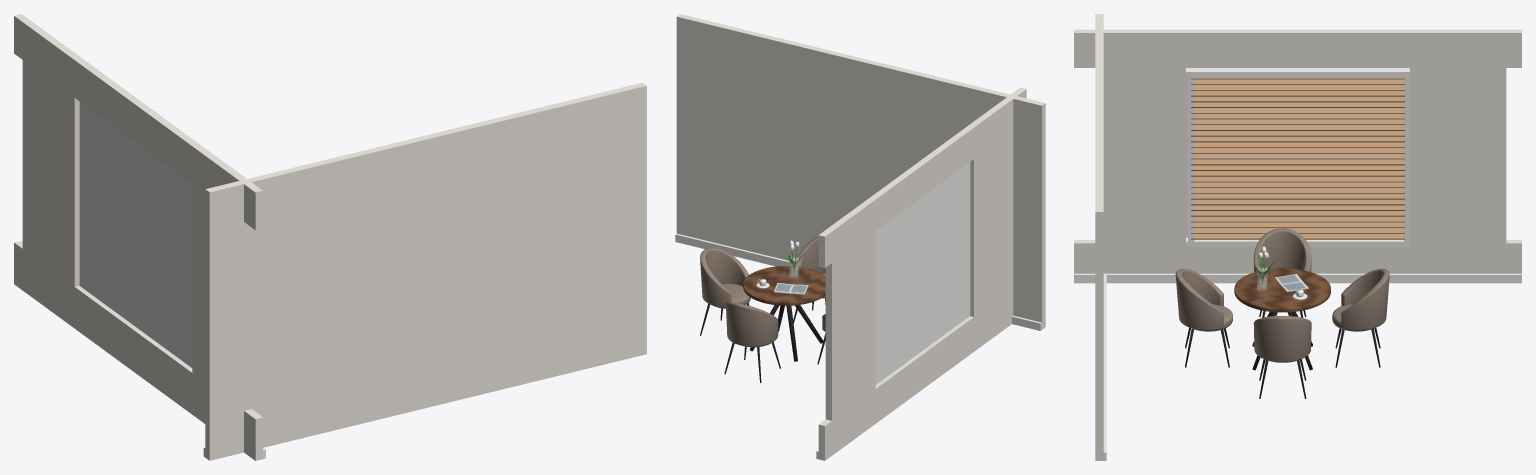
The model's file is viga.glb.
3 views of the same model, side by side, from view 1: azimuth 30°, elevation 25°; view 2: azimuth 150°, elevation 25°; view 3: azimuth 270°, elevation 25° (orthographic). The views are drawn at different scales.
Parts seen in each view (by area): view 1: wall_back, win_glass, wall_r_near, wall_r_high, wall_r_low, wall_r_far; view 2: wall_back, win_glass, wall_r_near, wall_r_high, wall_r_low, wall_r_far, table_top, chair_shell_d, chair_shell_a, wall_back_base, chair_shell_c; view 3: wall_r_high, wall_r_near, wall_r_far, wall_r_low, win_glass, wall_back, wall_r_base, table_top, chair_shell_d, chair_shell_a, chair_shell_c, win_frame_t (+34 smaller).
Boxes of the visible parts, bbox=[...] form: wall_back: bbox=[205, 82, 646, 460]; win_glass: bbox=[80, 102, 192, 366]; wall_r_near: bbox=[22, 60, 79, 286]; wall_r_high: bbox=[14, 14, 262, 230]; wall_r_low: bbox=[14, 240, 262, 460]; wall_r_far: bbox=[192, 184, 205, 381]; wall_back: bbox=[676, 14, 1045, 329]; win_glass: bbox=[875, 162, 970, 383]; wall_r_near: bbox=[825, 231, 875, 420]; wall_r_high: bbox=[818, 87, 1026, 267]; wall_r_low: bbox=[818, 288, 1013, 460]; wall_r_far: bbox=[970, 131, 1013, 316]; table_top: bbox=[743, 266, 825, 305]; chair_shell_d: bbox=[700, 248, 748, 307]; chair_shell_a: bbox=[726, 301, 778, 346]; wall_back_base: bbox=[675, 233, 1041, 330]; chair_shell_c: bbox=[796, 237, 825, 273]; wall_r_high: bbox=[1074, 29, 1521, 67]; wall_r_near: bbox=[1410, 68, 1506, 243]; wall_r_far: bbox=[1103, 68, 1187, 243]; wall_r_low: bbox=[1074, 240, 1521, 273]; win_glass: bbox=[1194, 79, 1403, 234]; wall_back: bbox=[1095, 14, 1103, 460]; wall_r_base: bbox=[1074, 273, 1521, 283]; table_top: bbox=[1234, 268, 1330, 312]; chair_shell_d: bbox=[1253, 316, 1311, 362]; chair_shell_a: bbox=[1341, 268, 1389, 330]; chair_shell_c: bbox=[1175, 268, 1223, 330]; win_frame_t: bbox=[1186, 68, 1409, 77].
Size of what is drawn, in the model's own units: 4.6 by 2.71 by 4.4.
12 materials, 1 textured.
